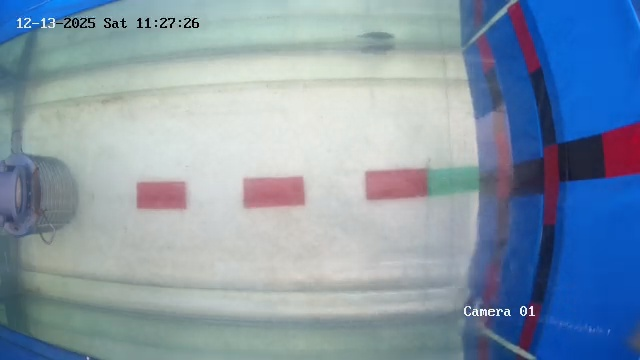fish: (300, 33, 335, 90)
